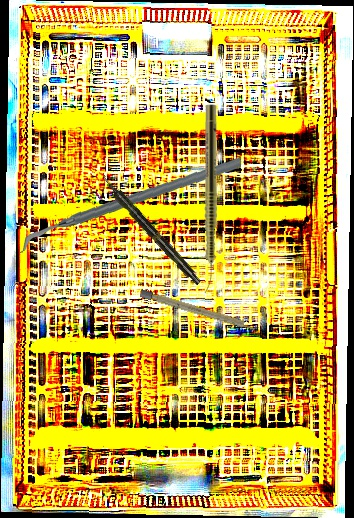Chopper: (20, 141, 242, 269)
Handpiece: (98, 172, 204, 288), (203, 104, 217, 295)
Scalpel Handle: (139, 289, 260, 333)
